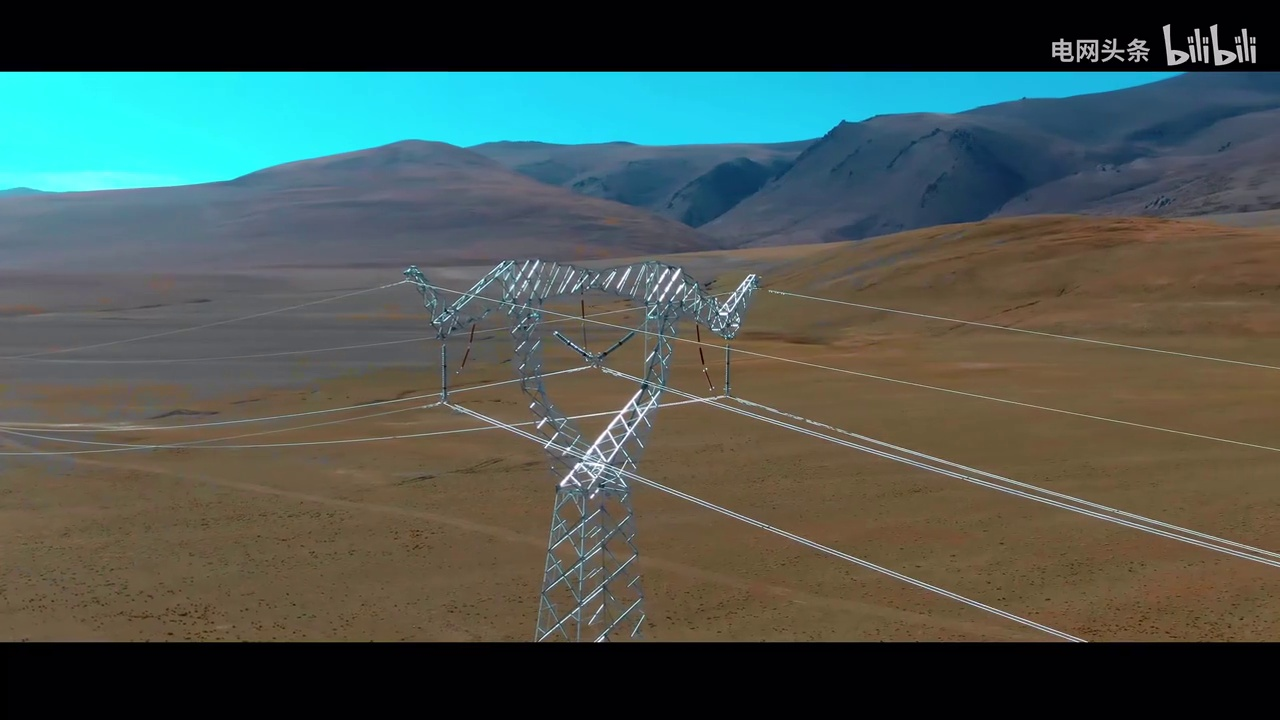tower_body: (395, 243, 778, 645)
tower_foot: (531, 533, 654, 642)
tower_head: (406, 250, 765, 483)
